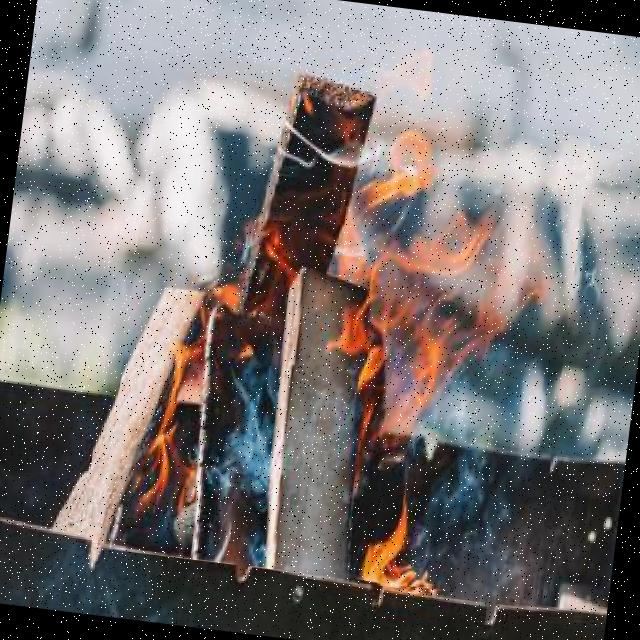fire: (100, 24, 598, 601)
